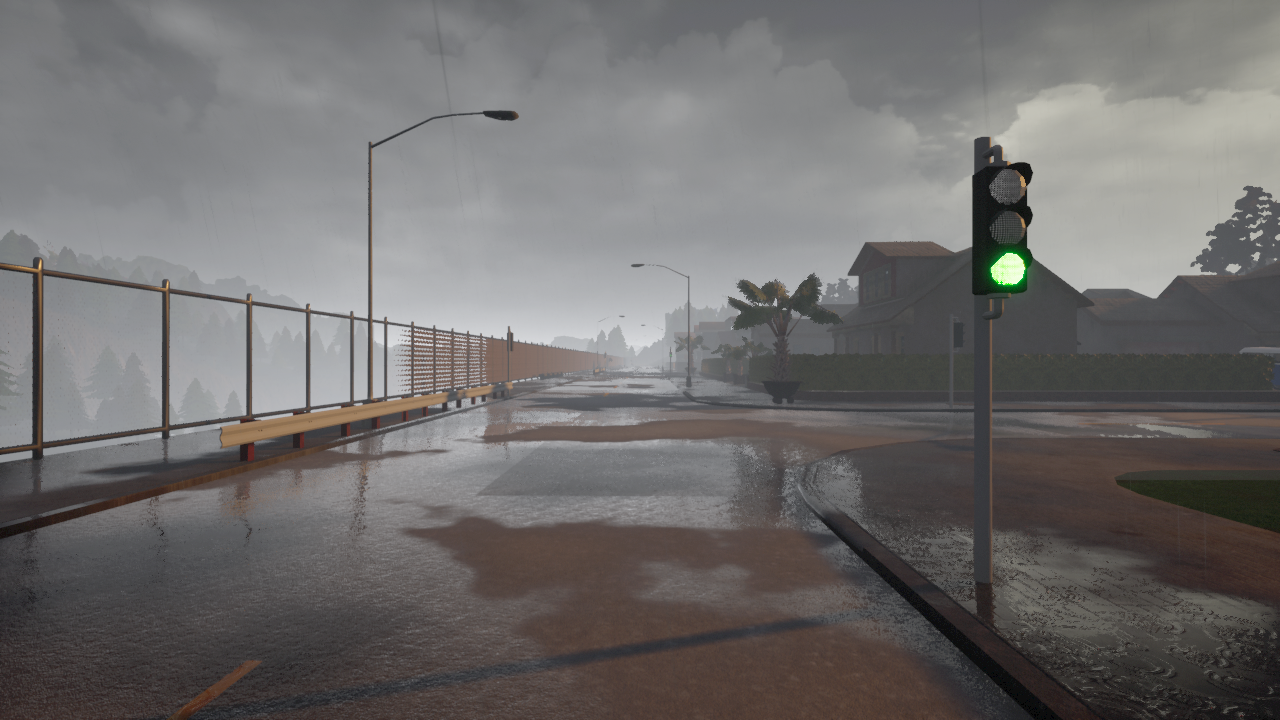green: (973, 155, 1033, 302)
